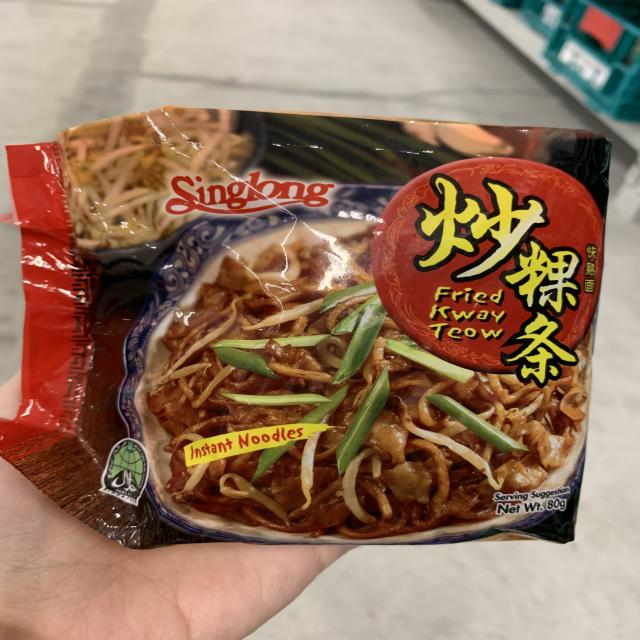object_name: (48, 125, 581, 540)
